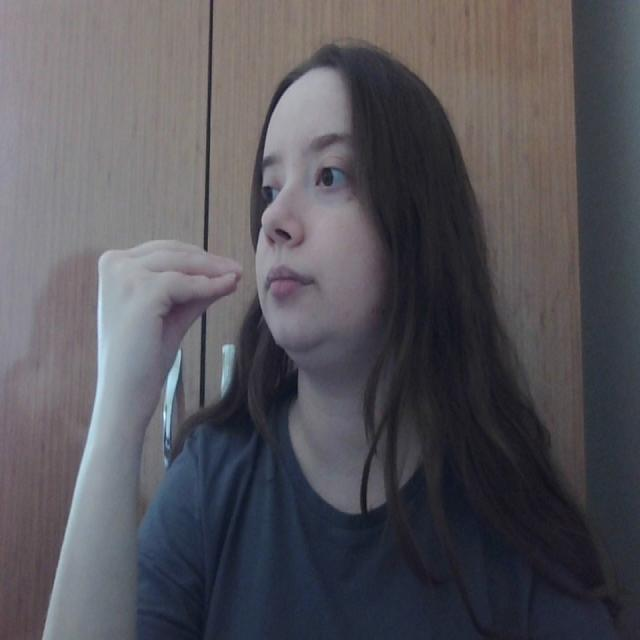Yemek: (92, 239, 306, 320)
